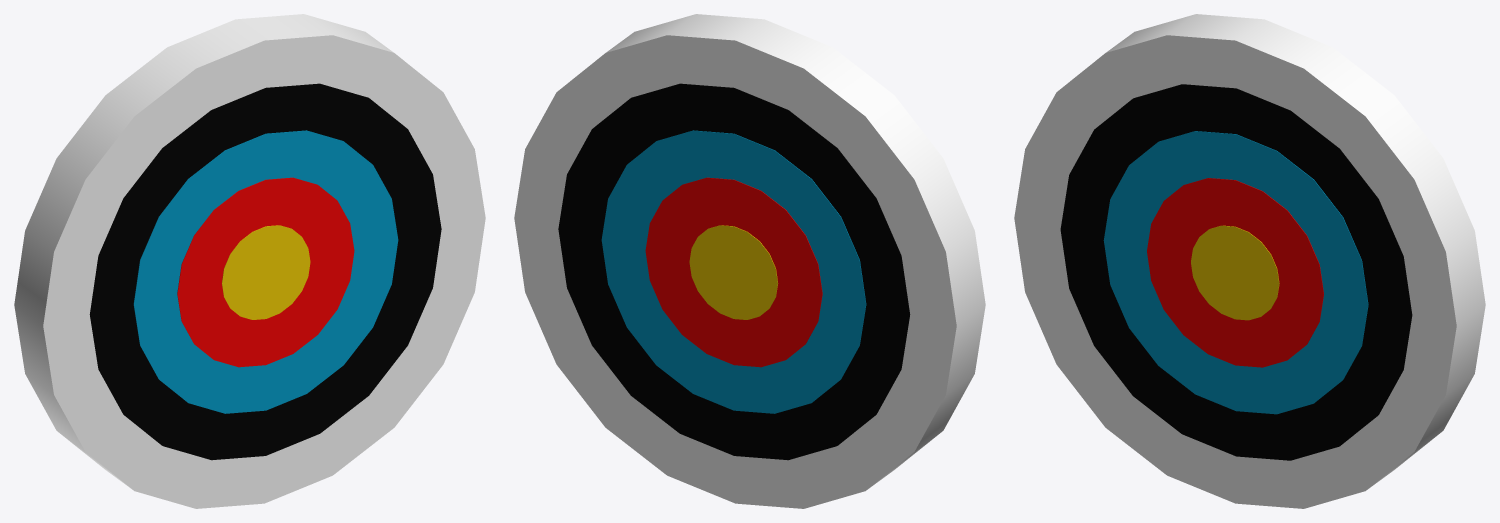
File: Target.fbx
3 renders of one model, left to right at view 1: azimuth 30°, elevation 25°; view 2: azimuth 150°, elevation 25°; view 3: azimuth 330°, elevation 25°, orthographic.
Visible parts, largest first — view 1: TargetHbox, Cylinder__3_, Cylinder__2_, Cylinder__1_, Cylinder; view 2: TargetHbox, Cylinder__3_, Cylinder__2_, Cylinder__1_, Cylinder; view 3: TargetHbox, Cylinder__3_, Cylinder__2_, Cylinder__1_, Cylinder.
Part boxes in pixels (x1,y1,x2,y2): TargetHbox: [14, 14, 485, 508]; Cylinder__3_: [89, 83, 441, 460]; Cylinder__2_: [133, 130, 398, 413]; Cylinder__1_: [177, 177, 354, 367]; Cylinder: [221, 225, 310, 319]; TargetHbox: [514, 14, 985, 508]; Cylinder__3_: [558, 83, 910, 460]; Cylinder__2_: [601, 130, 866, 413]; Cylinder__1_: [645, 177, 822, 367]; Cylinder: [689, 225, 778, 319]; TargetHbox: [1014, 14, 1485, 508]; Cylinder__3_: [1060, 84, 1412, 460]; Cylinder__2_: [1103, 131, 1368, 414]; Cylinder__1_: [1147, 178, 1323, 367]; Cylinder: [1191, 225, 1279, 320].
Bounding box in the file's own units: 180 × 180 × 22.
